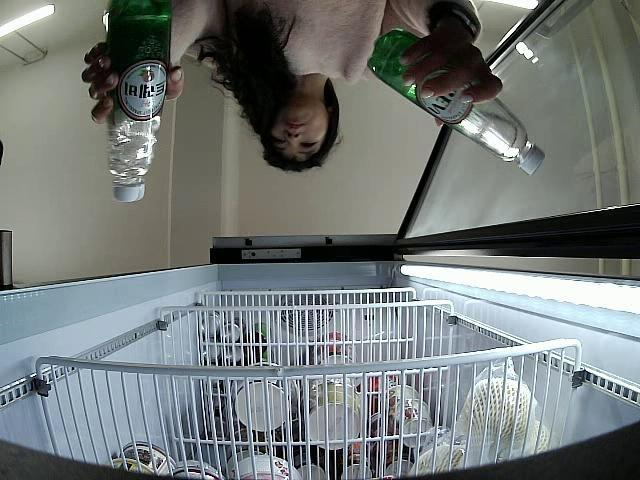18_trevi: (366, 24, 544, 177), (100, 0, 177, 203)
